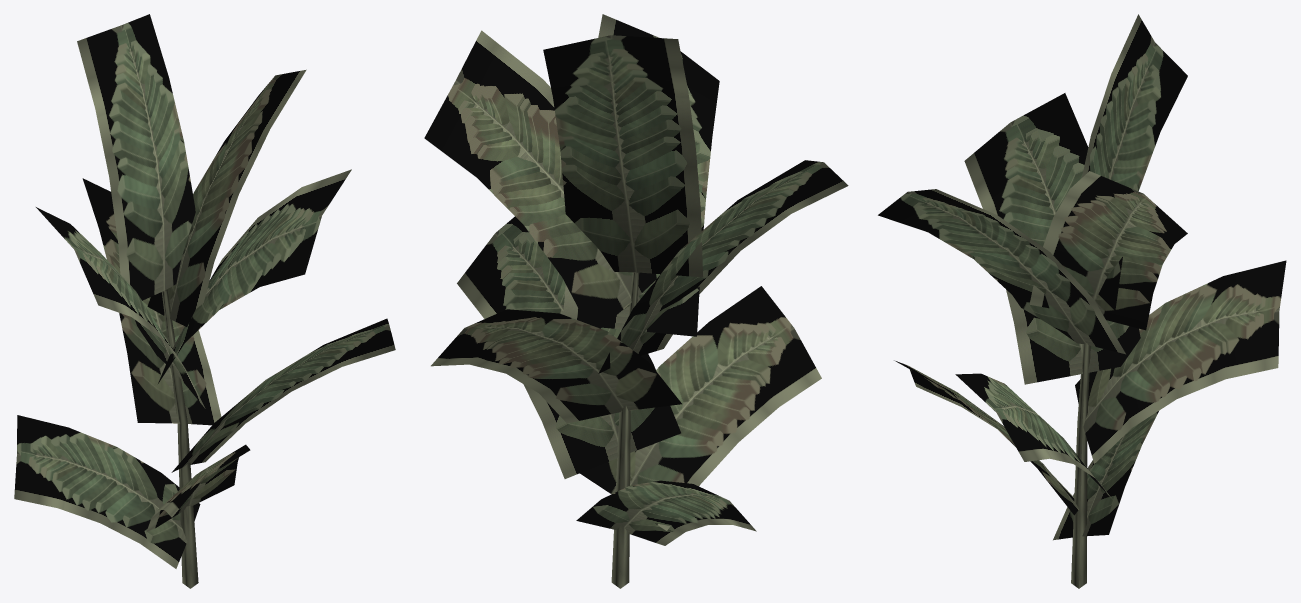
The model's file is fern_tall.obj.
3 renders of one model, left to right at view 1: azimuth 30°, elevation 25°; view 2: azimuth 150°, elevation 25°; view 3: azimuth 270°, elevation 25°, orthographic. The views are drawn at different scales.
Parts seen in each view (by area): view 1: Top_Branch, Low_Left_Branch, Upper_Right_Branch, Upper_Back_Branch, Low_Front_Branch, Low_Right_Branch, Upper_Left_Branch, Main_Stem, Low_Back_Branch; view 2: Top_Branch, Upper_Right_Branch, Low_Back_Branch, Low_Front_Branch, Low_Right_Branch, Upper_Left_Branch, Low_Left_Branch, Upper_Back_Branch, Main_Stem; view 3: Low_Front_Branch, Upper_Left_Branch, Upper_Right_Branch, Upper_Back_Branch, Top_Branch, Low_Right_Branch, Low_Left_Branch, Main_Stem, Low_Back_Branch.
Boxes of the visible parts, left/top/right/bottom form: Top_Branch: left=77, top=14, right=195, bottom=300; Low_Left_Branch: left=14, top=415, right=200, bottom=568; Upper_Right_Branch: left=147, top=69, right=306, bottom=326; Upper_Back_Branch: left=158, top=169, right=351, bottom=383; Low_Front_Branch: left=82, top=178, right=221, bottom=425; Low_Right_Branch: left=171, top=318, right=395, bottom=472; Upper_Left_Branch: left=36, top=207, right=205, bottom=408; Main_Stem: left=161, top=290, right=198, bottom=588; Low_Back_Branch: left=146, top=444, right=250, bottom=532; Top_Branch: left=543, top=35, right=703, bottom=277; Upper_Right_Branch: left=424, top=30, right=656, bottom=328; Low_Back_Branch: left=580, top=286, right=821, bottom=530; Low_Front_Branch: left=431, top=309, right=681, bottom=423; Low_Right_Branch: left=457, top=216, right=680, bottom=478; Upper_Left_Branch: left=598, top=160, right=848, bottom=373; Low_Left_Branch: left=576, top=480, right=756, bottom=545; Upper_Back_Branch: left=563, top=14, right=719, bottom=336; Main_Stem: left=611, top=272, right=639, bottom=588; Low_Front_Branch: left=1075, top=260, right=1286, bottom=463; Upper_Left_Branch: left=964, top=93, right=1140, bottom=384; Upper_Right_Branch: left=1029, top=171, right=1187, bottom=330; Upper_Back_Branch: left=878, top=189, right=1125, bottom=354; Top_Branch: left=1082, top=14, right=1187, bottom=310; Low_Right_Branch: left=955, top=373, right=1112, bottom=499; Low_Left_Branch: left=1053, top=411, right=1158, bottom=540; Main_Stem: left=1071, top=343, right=1090, bottom=588; Low_Back_Branch: left=894, top=360, right=1078, bottom=515.
Bounding box in the file's own units: 50.59 × 77.13 × 53.81.
Materials: 1 (1 with a texture image).
